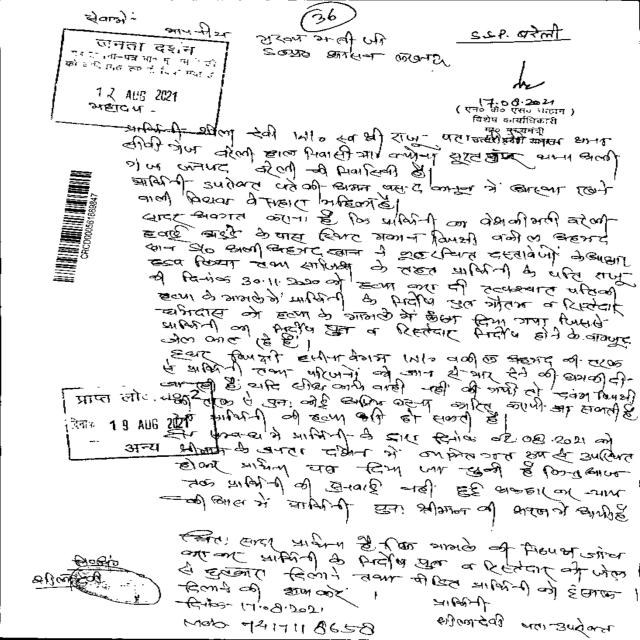antritgovtstamp: (44, 380, 233, 462)
barcode: (50, 167, 102, 283)
fingerprint: (70, 560, 164, 610)
jantadarsan: (42, 26, 230, 136)
